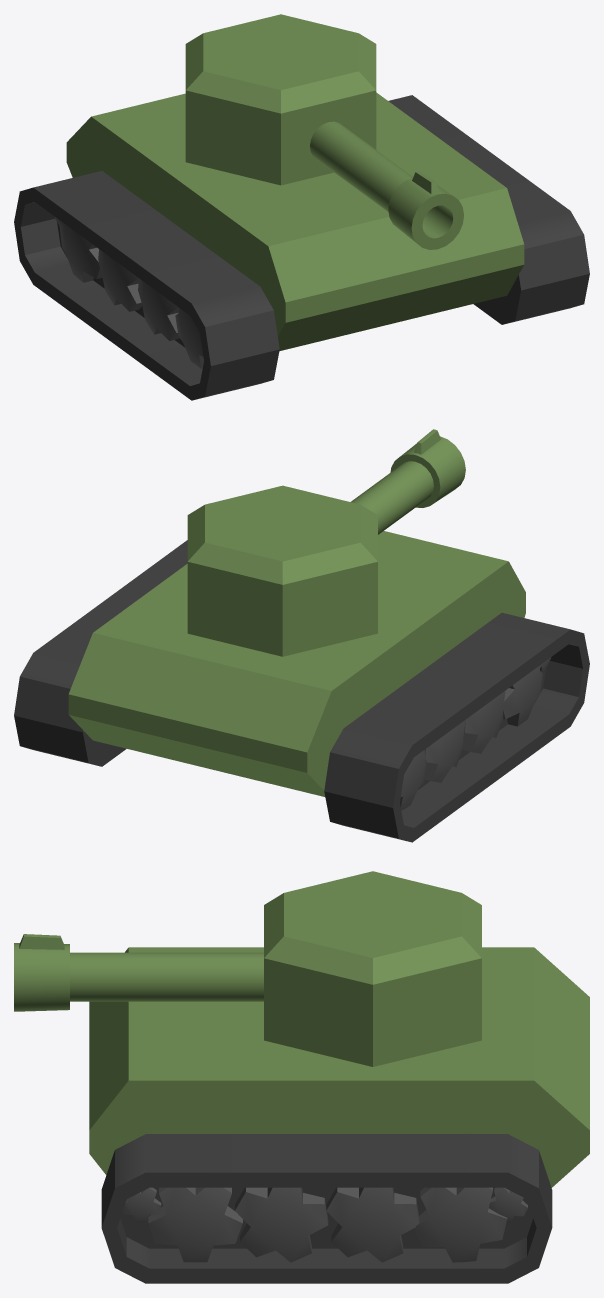
The model's file is Tank.fbx.
3 renders of one model, top to bottom at view 1: azimuth 30°, elevation 25°; view 2: azimuth 150°, elevation 25°; view 3: azimuth 270°, elevation 25°, orthographic. The views are drawn at different scales.
Visible parts, largest first — view 1: Tank, pCylinder3, pCylinder1, pCylinder2, pCylinder4, pCylinder14, pCylinder13, pCylinder15, pCylinder12; view 2: Tank, pCylinder3, pCylinder1, pCylinder2, pCylinder4, pCylinder13, pCylinder14, pCylinder12, pCylinder15; view 3: Tank, pCylinder2, pCylinder1, pCylinder4, pCylinder8, pCylinder7, pCylinder5, pCylinder9, pCylinder6, pCylinder10.
Boxes of the visible parts, x1,y1,x2,y2 form: Tank: (66,92,524,351); pCylinder3: (14,171,279,400); pCylinder1: (185,14,376,185); pCylinder2: (388,95,589,324); pCylinder4: (310,121,463,249); pCylinder14: (98,249,142,311); pCylinder13: (138,278,179,340); pCylinder15: (59,223,102,282); pCylinder12: (175,308,203,368); Tank: (68,531,525,796); pCylinder3: (324,612,589,842); pCylinder1: (187,485,377,656); pCylinder2: (14,540,187,766); pCylinder4: (351,429,465,534); pCylinder13: (463,690,505,753); pCylinder14: (424,720,465,782); pCylinder12: (503,666,543,726); pCylinder15: (400,750,427,810); Tank: (89,947,589,1187); pCylinder2: (101,1134,552,1283); pCylinder1: (264,871,481,1066); pCylinder4: (14,934,263,1011); pCylinder8: (326,1187,419,1262); pCylinder7: (235,1187,328,1262); pCylinder5: (148,1187,242,1262); pCylinder9: (413,1187,507,1262); pCylinder6: (122,1187,161,1222); pCylinder10: (489,1187,527,1222).
Size of the model in its own units: 3.11 by 1.8 by 3.57.
